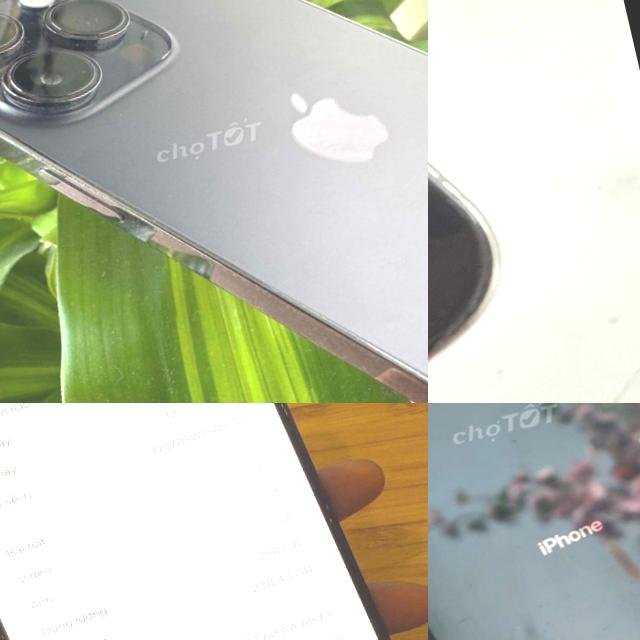scratch: (438, 309, 478, 336), (428, 340, 445, 364)
